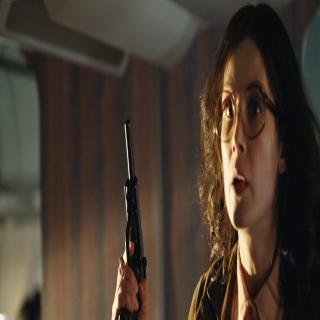gun: (106, 108, 152, 320)
